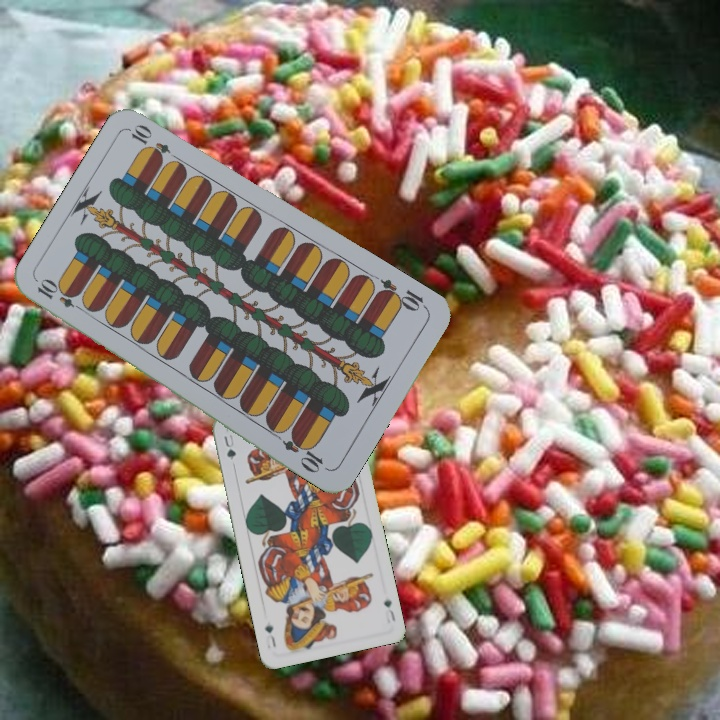E10: (373, 274, 430, 315), (33, 276, 89, 315)
GU: (220, 430, 239, 462), (380, 596, 398, 626)
